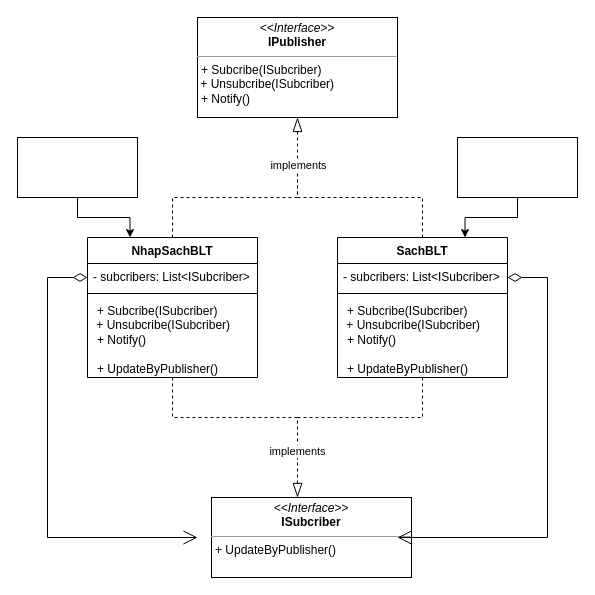
Some shapes in this 595 by 595 pixel diagram are drawn without their labels. Each missing label, with the centre of its shape:
PhieuNhapSach: point (77, 167)
SachForm: point (517, 167)
